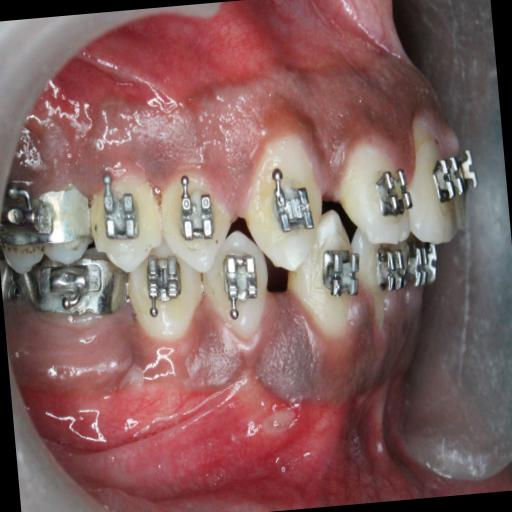correct_brace: (156, 167, 232, 271), (202, 230, 274, 336), (267, 162, 315, 240), (314, 239, 362, 313), (369, 154, 414, 228), (217, 248, 263, 318)
incorrect_brace: (336, 140, 416, 250), (172, 173, 218, 245)
